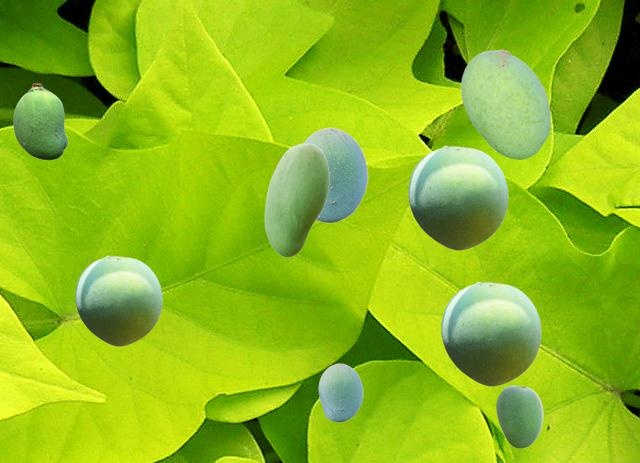green_mango: (441, 281, 540, 385), (408, 145, 507, 249), (461, 49, 549, 158), (75, 255, 161, 345), (264, 143, 328, 256), (303, 127, 367, 222), (13, 83, 67, 159), (496, 385, 542, 447), (318, 363, 362, 421)
